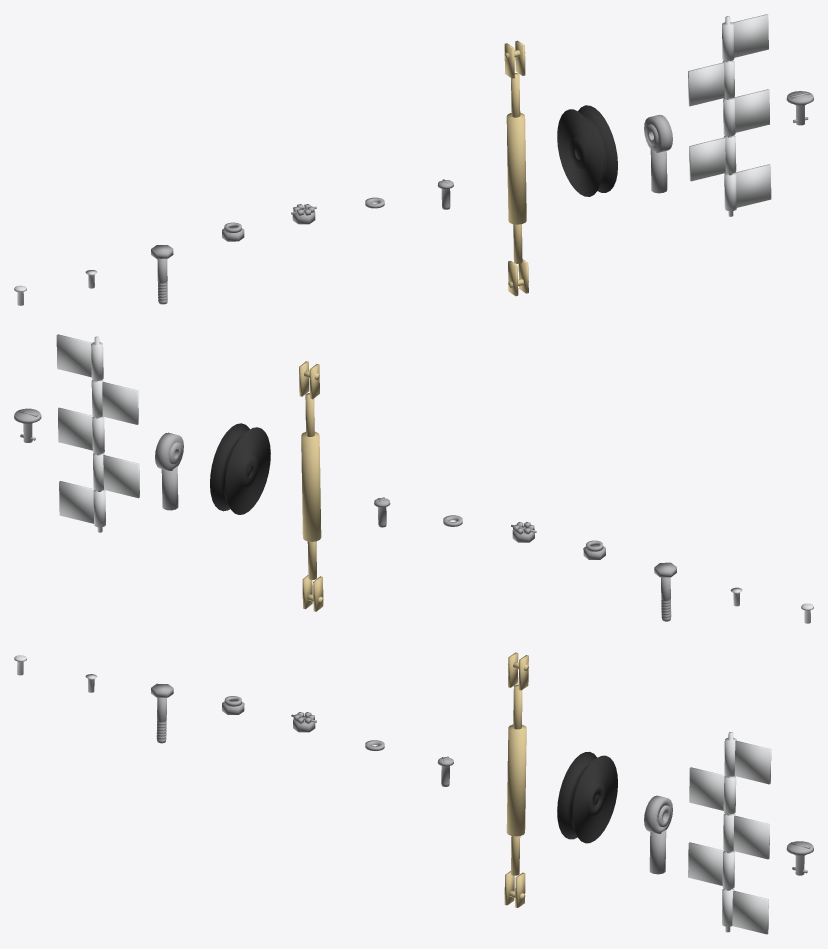
File: HARDWARE.glb
3 renders of one model, top to bottom at view 1: azimuth 30°, elevation 25°; view 2: azimuth 150°, elevation 25°; view 3: azimuth 330°, elevation 25°, orthographic.
Visible parts, largest first — view 1: HARDWARE.hinge, HARDWARE.cable_pulley, HARDWARE.turnbuckle, HARDWARE.rod_end_bearing, HARDWARE.bolt, HARDWARE.quarter_turn_fastener; view 2: HARDWARE.hinge, HARDWARE.cable_pulley, HARDWARE.turnbuckle, HARDWARE.rod_end_bearing, HARDWARE.bolt, HARDWARE.quarter_turn_fastener; view 3: HARDWARE.hinge, HARDWARE.cable_pulley, HARDWARE.turnbuckle, HARDWARE.rod_end_bearing, HARDWARE.bolt, HARDWARE.quarter_turn_fastener.
Part boxes in pixels (x1=…): HARDWARE.hinge: x1=688, y1=14, x2=771, y2=216; HARDWARE.cable_pulley: x1=557, y1=105, x2=617, y2=196; HARDWARE.turnbuckle: x1=504, y1=40, x2=528, y2=296; HARDWARE.rod_end_bearing: x1=644, y1=114, x2=672, y2=193; HARDWARE.bolt: x1=151, y1=245, x2=173, y2=304; HARDWARE.quarter_turn_fastener: x1=786, y1=91, x2=813, y2=125; HARDWARE.hinge: x1=56, y1=334, x2=139, y2=532; HARDWARE.cable_pulley: x1=210, y1=423, x2=270, y2=514; HARDWARE.turnbuckle: x1=299, y1=361, x2=323, y2=611; HARDWARE.rod_end_bearing: x1=155, y1=432, x2=183, y2=510; HARDWARE.bolt: x1=654, y1=562, x2=676, y2=621; HARDWARE.quarter_turn_fastener: x1=14, y1=408, x2=41, y2=442; HARDWARE.hinge: x1=688, y1=732, x2=771, y2=934; HARDWARE.cable_pulley: x1=557, y1=751, x2=617, y2=843; HARDWARE.turnbuckle: x1=504, y1=652, x2=528, y2=907; HARDWARE.rod_end_bearing: x1=644, y1=795, x2=672, y2=874; HARDWARE.bolt: x1=151, y1=683, x2=173, y2=743; HARDWARE.quarter_turn_fastener: x1=786, y1=841, x2=813, y2=875.
Bounding box in the file's own units: 0.45 × 0.1321 × 0.044.
